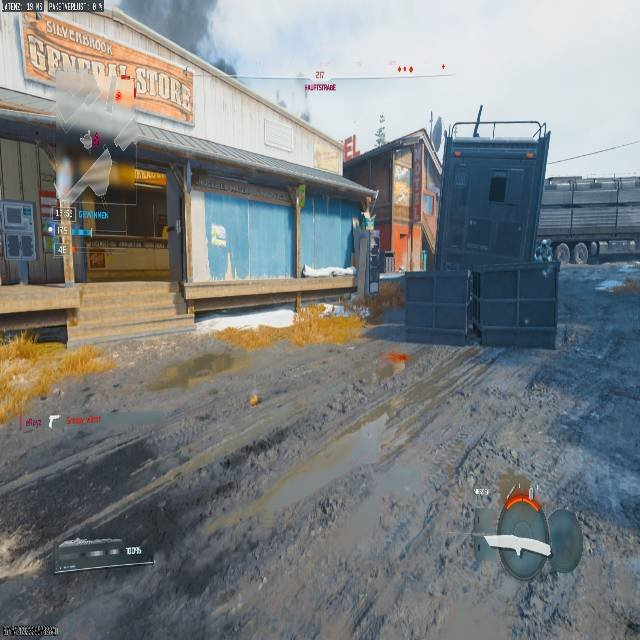player: (362, 233, 386, 294)
